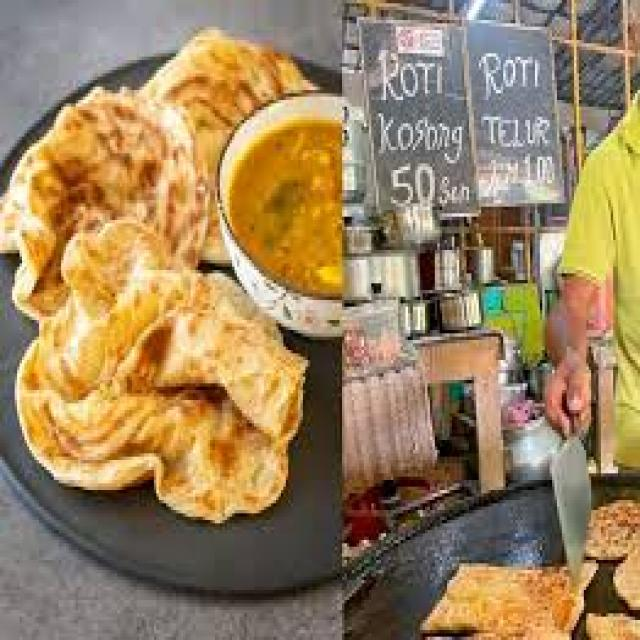Paratha: (7, 243, 308, 522), (160, 8, 363, 266), (33, 88, 185, 283)
